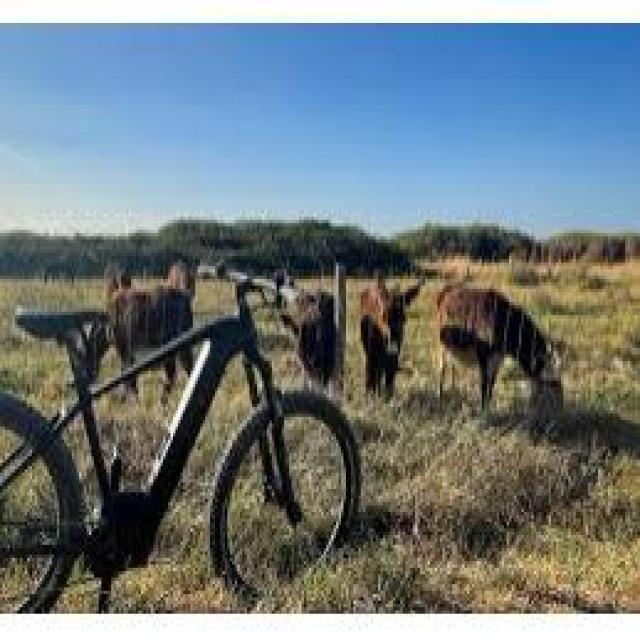bicycle: (6, 286, 377, 605)
